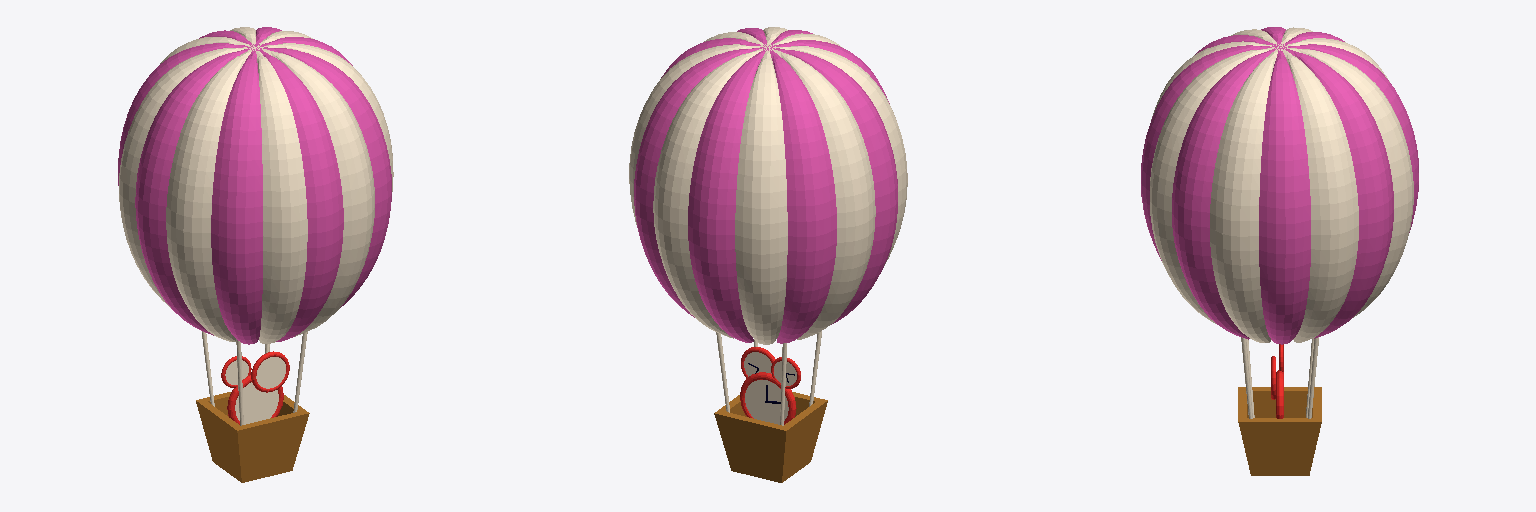
3 views of the same model, side by side, from view 1: azimuth 30°, elevation 25°; view 2: azimuth 150°, elevation 25°; view 3: azimuth 270°, elevation 25° (orthographic).
Visible parts, largest first — view 1: 球.001, 立方体.001; view 2: 球.001, 立方体.001; view 3: 球.001, 立方体.001.
Boxes of the visible parts, box(x1,y1,x2,y2) form: 球.001: box(118, 27, 393, 482); 立方体.001: box(221, 351, 289, 424); 球.001: box(629, 27, 907, 482); 立方体.001: box(740, 347, 800, 424); 球.001: box(1141, 27, 1418, 475); 立方体.001: box(1271, 344, 1283, 418).
Bounding box in the file's own units: 2.08 × 3.45 × 2.08.
Materials: 4 (2 with a texture image).